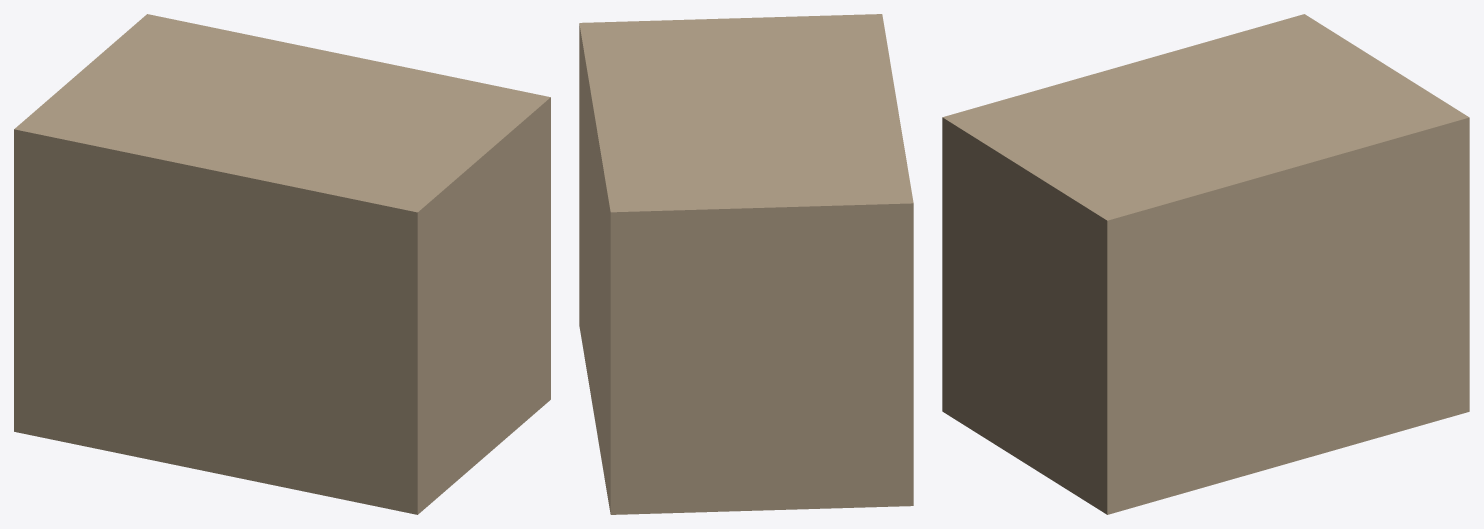
The model's file is bld_276131477.dae.
3 views of the same model, side by side, from view 1: azimuth 30°, elevation 25°; view 2: azimuth 150°, elevation 25°; view 3: azimuth 270°, elevation 25° (orthographic). The views are drawn at different scales.
Visible parts, largest first — view 1: bld_276131477; view 2: bld_276131477; view 3: bld_276131477.
Part boxes in pixels (x1,y1,x2,y2): bld_276131477: (14, 14, 550, 514); bld_276131477: (579, 14, 913, 514); bld_276131477: (942, 14, 1469, 514).
Size of the model in its own units: 12.05 by 12.99 by 8.
